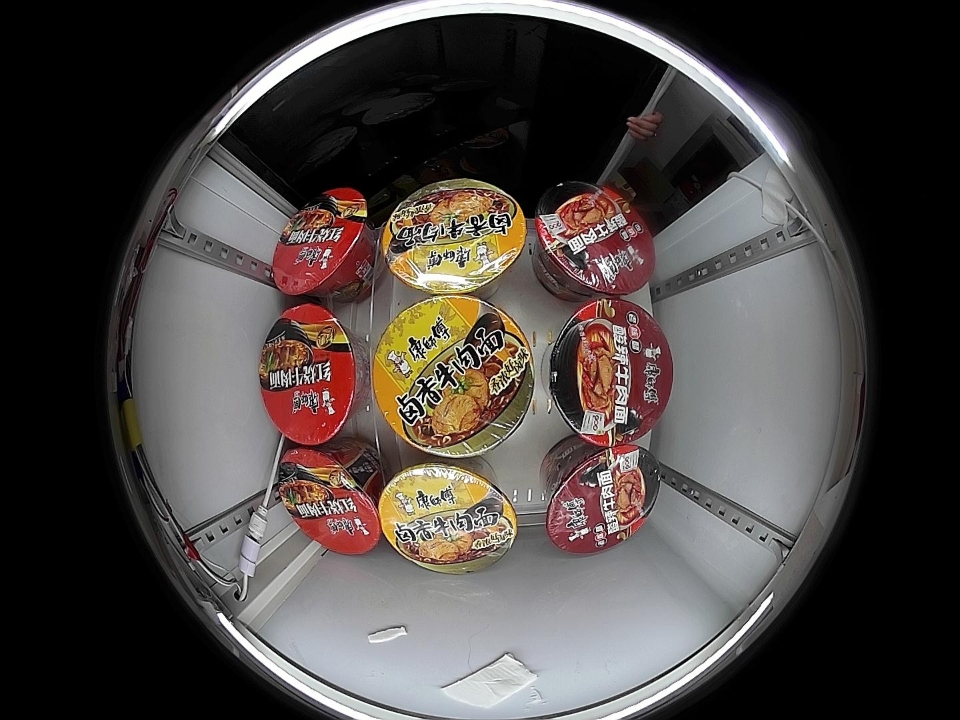hongshaoniurou: (259, 304, 361, 445), (274, 446, 382, 555), (273, 188, 373, 296)
luxiangniurou: (371, 295, 534, 457), (381, 179, 528, 294), (378, 461, 519, 573)
suanlaniurou: (547, 298, 673, 444), (533, 180, 656, 295), (545, 445, 661, 553)
